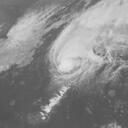cyclone: (45, 33, 100, 86)
